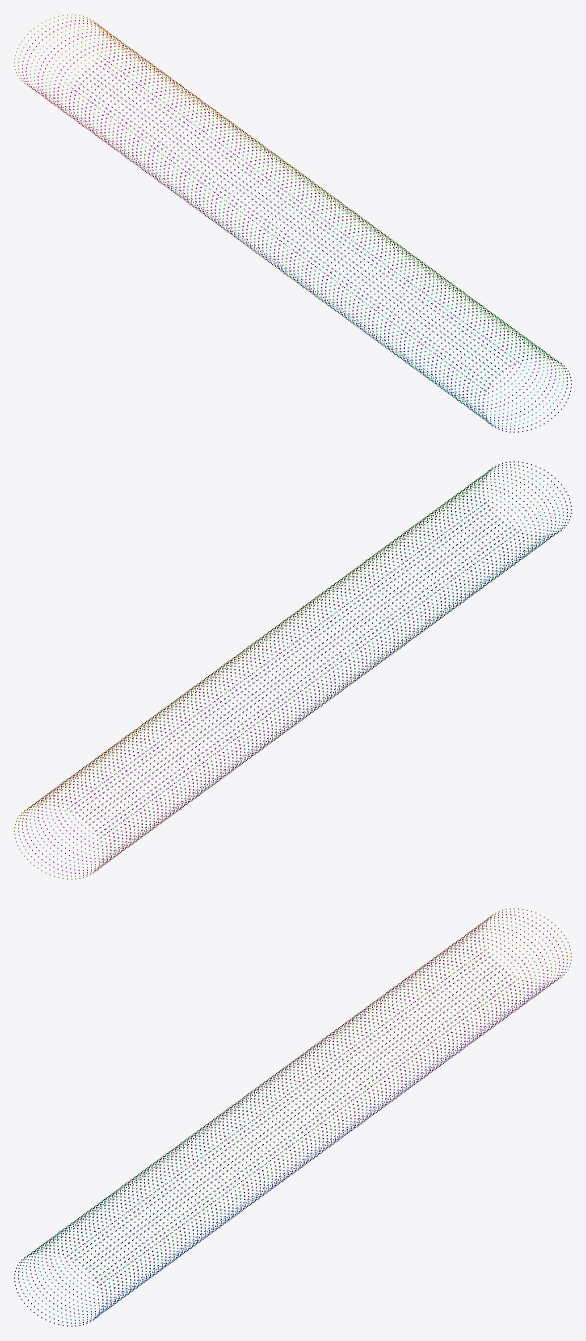
The model's file is Tunnel.fbx.
3 renders of one model, top to bottom at view 1: azimuth 30°, elevation 25°; view 2: azimuth 150°, elevation 25°; view 3: azimuth 330°, elevation 25°, orthographic.
Parts seen in each view (by area): view 1: Tunnel; view 2: Tunnel; view 3: Tunnel.
Boxes of the visible parts, box(x1,y1,x2,y2) form: Tunnel: box(14, 14, 571, 432); Tunnel: box(14, 461, 571, 879); Tunnel: box(14, 908, 571, 1326).
Bounding box in the file's own units: 263 × 203 × 2380.
